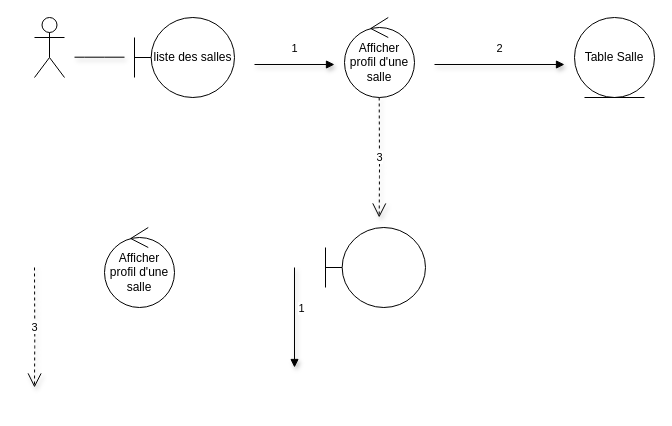
Image size: 672x426. Some labels were removed from this diagram. The shapes that lost their labels are listed below. From the top down, each one's centre as x and y in pixels, then its label:
[49,47]: Admin
[375,267]: profil salle
